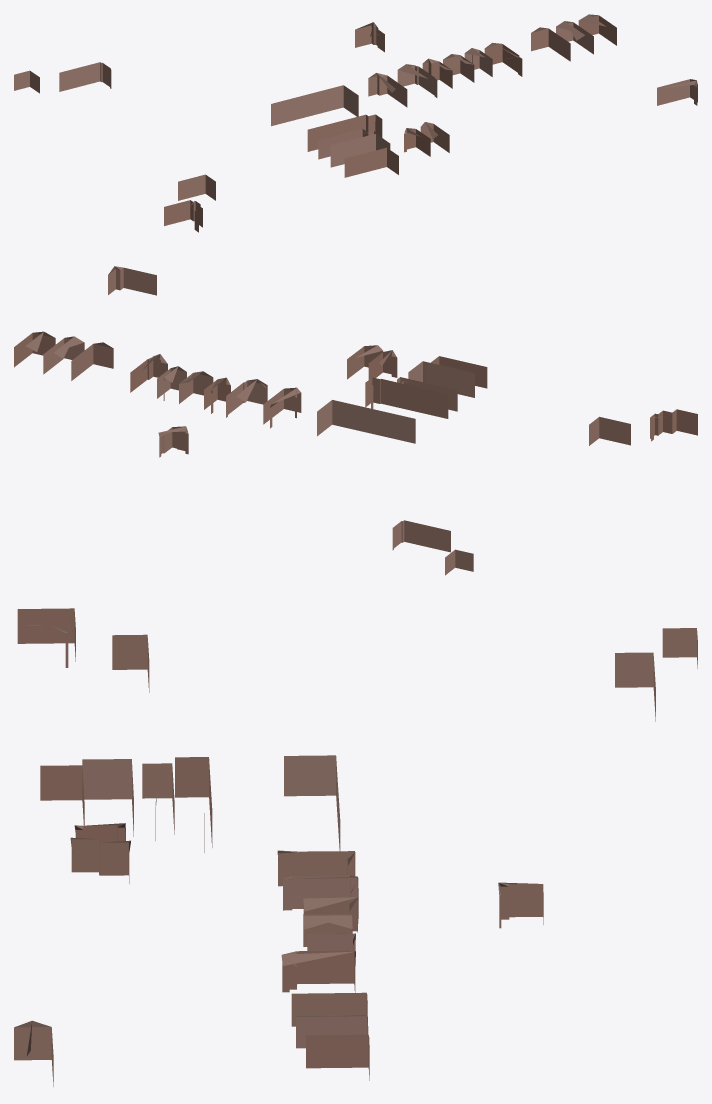
Rendered from c_1635_17823_buildings_residential.glb.
The picture shows the model from 3 angles, top to bottom: view 1: azimuth 30°, elevation 25°; view 2: azimuth 150°, elevation 25°; view 3: azimuth 270°, elevation 25°; orthographic projection. The views are drawn at different scales.
Visible parts, largest first — view 1: geometry_0; view 2: geometry_0; view 3: geometry_0.
Part boxes in pixels (box(x1,y1,x2,y2)): geometry_0: box(14, 14, 697, 232); geometry_0: box(14, 266, 697, 575); geometry_0: box(14, 608, 697, 1086).
Size of the model in its own units: 268 by 13.94 by 169.
